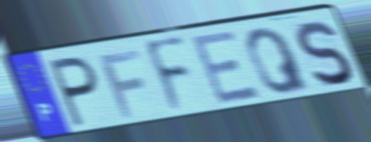E: (187, 28, 264, 109)
F: (141, 33, 192, 119), (96, 46, 147, 121)
P: (46, 54, 102, 130)
Q: (243, 25, 314, 97)
S: (294, 18, 356, 90)
